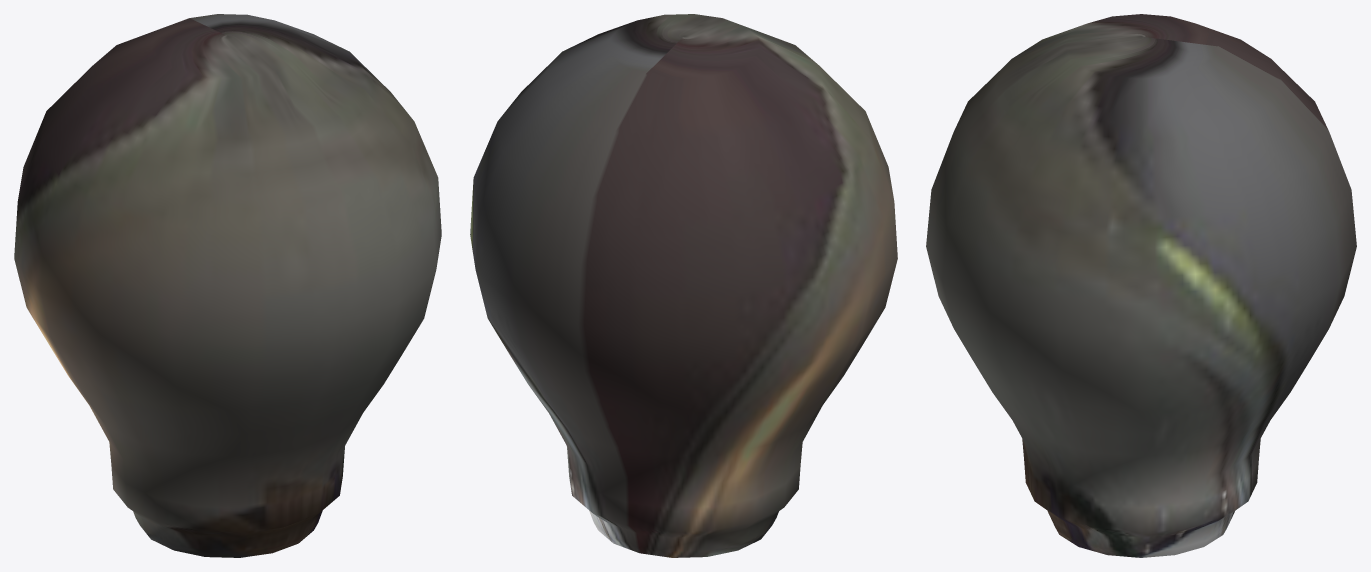
File: Bulp_polymsh_detached1.obj
3 views of the same model, side by side, from view 1: azimuth 30°, elevation 25°; view 2: azimuth 150°, elevation 25°; view 3: azimuth 270°, elevation 25° (orthographic).
Visible parts, largest first — view 1: polymsh_detached1; view 2: polymsh_detached1; view 3: polymsh_detached1.
Boxes of the visible parts, bbox=[...] form: polymsh_detached1: bbox=[14, 14, 441, 557]; polymsh_detached1: bbox=[470, 14, 897, 557]; polymsh_detached1: bbox=[926, 14, 1356, 557].
Bounding box in the file's own units: 5.22 × 6.47 × 5.22.
